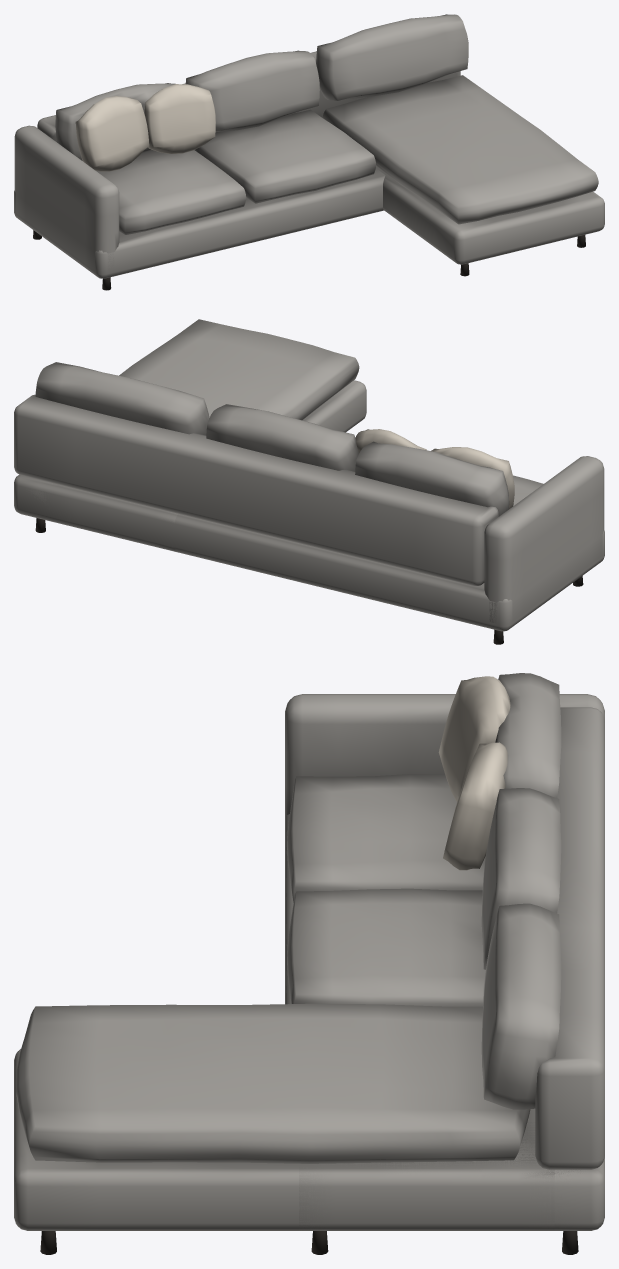
File: canape_angle.glb
3 renders of one model, top to bottom at view 1: azimuth 30°, elevation 25°; view 2: azimuth 150°, elevation 25°; view 3: azimuth 270°, elevation 25°, orthographic. The views are drawn at different scales.
Visible parts, largest first — view 1: assises, socle, dossiers, coussins, pieds; view 2: socle, dossiers, assises, coussins; view 3: assises, socle, dossiers, coussins, pieds.
Part boxes in pixels (left/top/right/bottom): assises: left=96, top=75, right=598, bottom=234; socle: left=14, top=51, right=604, bottom=278; dossiers: left=55, top=14, right=468, bottom=160; coussins: left=75, top=84, right=215, bottom=171; pieds: left=33, top=230, right=585, bottom=290; socle: left=14, top=380, right=604, bottom=631; dossiers: left=35, top=362, right=509, bottom=516; assises: left=119, top=319, right=543, bottom=505; coussins: left=355, top=429, right=514, bottom=508; assises: left=16, top=774, right=530, bottom=1163; socle: left=14, top=694, right=604, bottom=1230; dossiers: left=481, top=673, right=561, bottom=1109; coussins: left=438, top=676, right=510, bottom=870; pieds: left=40, top=1231, right=578, bottom=1254.
Bounding box in the file's own units: 2.6 × 0.8199 × 1.7.
